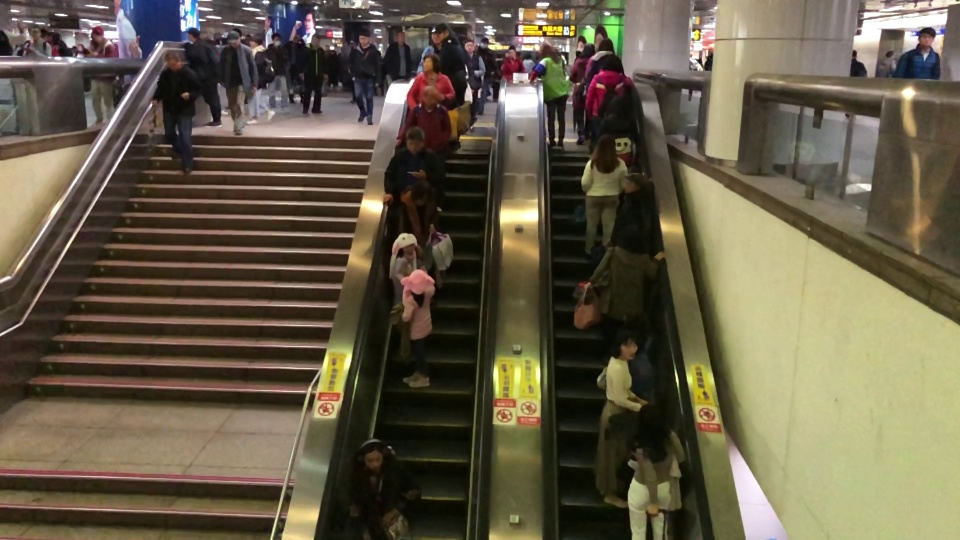person_head: (611, 330, 640, 361), (619, 224, 646, 252), (639, 403, 666, 431), (405, 126, 426, 152), (595, 133, 617, 157), (363, 444, 383, 470), (622, 310, 648, 330), (608, 94, 630, 117), (624, 172, 644, 193), (422, 85, 439, 109), (917, 27, 936, 48), (603, 54, 621, 73), (413, 182, 429, 203), (423, 53, 440, 72), (165, 50, 183, 67), (597, 37, 613, 52), (358, 29, 372, 46), (435, 27, 450, 42), (581, 42, 595, 58), (187, 27, 201, 41), (411, 277, 423, 293), (401, 241, 415, 254), (540, 42, 553, 56), (228, 30, 240, 45), (249, 35, 262, 47), (92, 27, 103, 41), (396, 30, 406, 45), (30, 25, 41, 38), (271, 32, 280, 46), (464, 39, 475, 50), (310, 33, 320, 45), (479, 37, 488, 48), (508, 47, 516, 58), (706, 50, 714, 61), (851, 49, 857, 58), (885, 50, 893, 56)
person_vbox: (583, 224, 668, 350), (588, 330, 647, 508), (626, 402, 686, 540), (394, 84, 452, 214), (352, 443, 420, 540), (580, 132, 628, 261), (151, 50, 199, 175), (382, 126, 442, 206), (529, 42, 571, 150), (434, 26, 468, 153), (219, 30, 259, 137), (182, 27, 224, 128), (399, 277, 435, 385), (621, 310, 663, 394), (585, 54, 635, 120), (348, 29, 382, 126), (608, 172, 655, 242), (85, 27, 118, 125), (597, 94, 640, 166), (391, 241, 416, 358), (395, 183, 441, 244), (406, 53, 455, 109), (246, 34, 276, 125), (891, 27, 941, 81), (298, 33, 330, 117), (569, 43, 595, 144), (463, 39, 486, 131), (266, 32, 291, 115), (586, 37, 624, 88), (845, 48, 868, 117), (383, 29, 414, 79), (477, 37, 494, 116), (22, 25, 52, 56), (501, 46, 526, 82), (688, 56, 703, 100), (876, 48, 898, 78), (703, 50, 714, 70)
